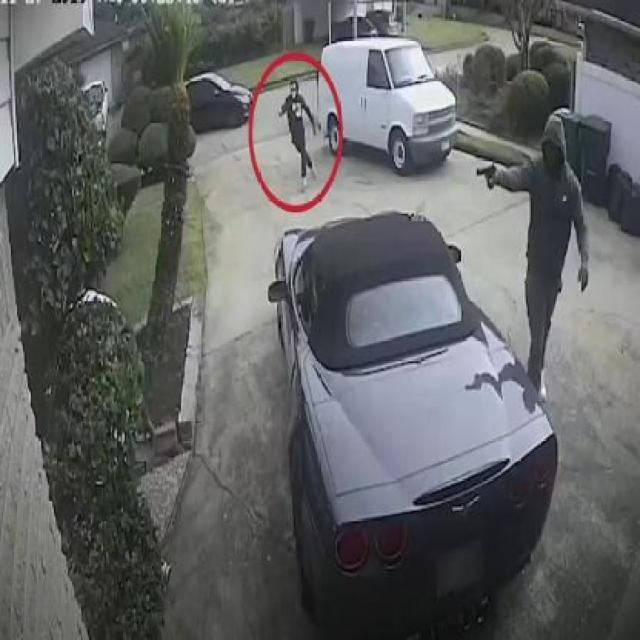weapon: (474, 162, 502, 195)
